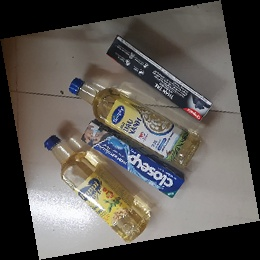CloseUp Tuyet: (80, 119, 185, 199)
Colgate Than: (105, 34, 215, 122)
Happy Soya: (43, 134, 151, 241)
Simply: (68, 77, 202, 169)
